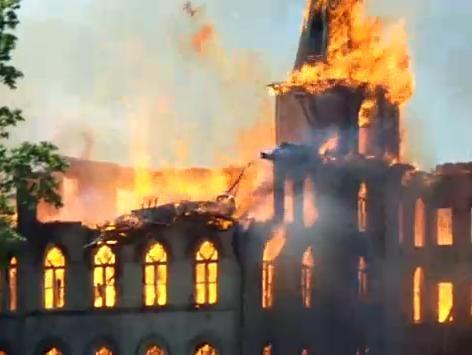Fire: (325, 12, 425, 92)
Smoke: (266, 194, 363, 269)
